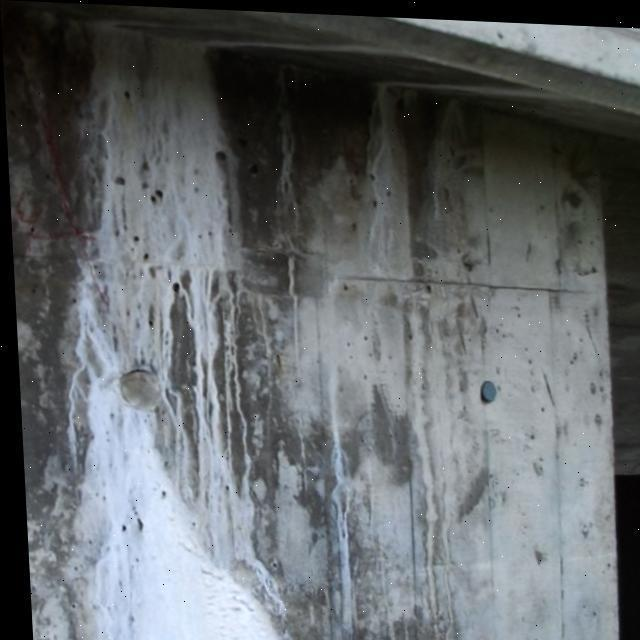D01: (62, 14, 249, 639)
